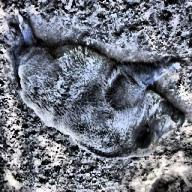boar: (6, 8, 186, 162)
